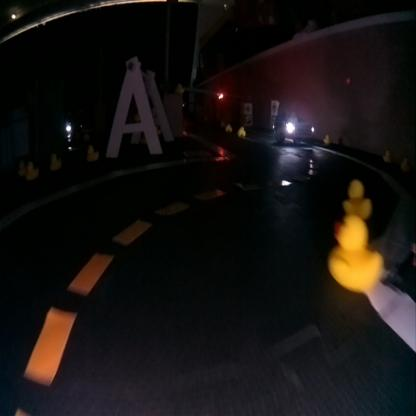Duckie: (327, 217, 382, 290), (342, 179, 372, 221), (25, 162, 37, 178), (86, 146, 97, 160), (49, 154, 59, 168), (237, 126, 245, 136), (383, 148, 389, 161), (323, 134, 330, 142), (224, 123, 233, 129)
Duckiebot: (274, 111, 315, 144)
